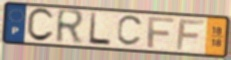C: (25, 7, 56, 44), (116, 15, 146, 48)
F: (175, 18, 206, 51), (146, 16, 176, 50)
L: (87, 11, 113, 47)
R: (54, 7, 87, 46)
